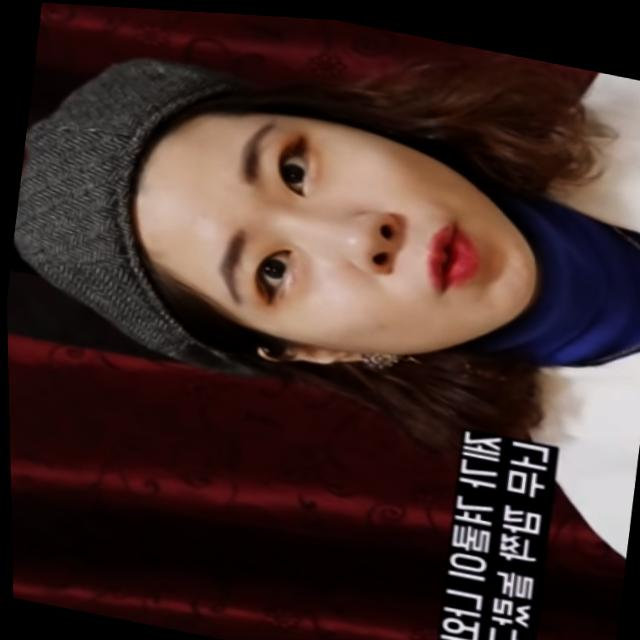face: (119, 73, 555, 387)
